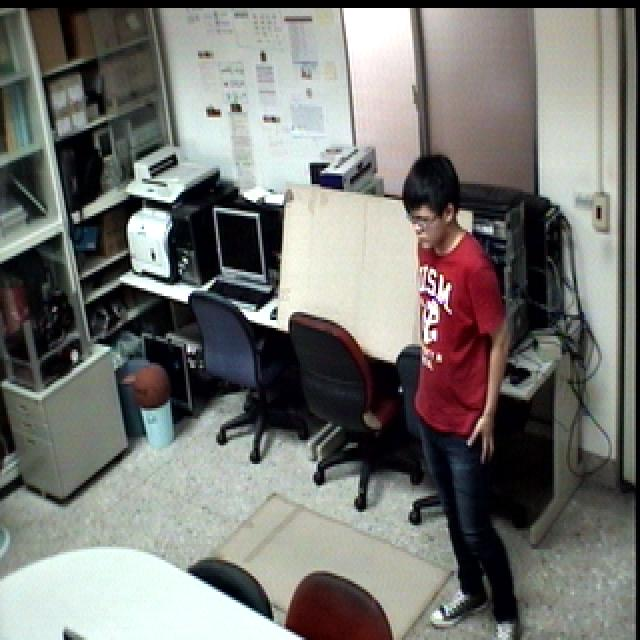stand: (393, 143, 516, 640)
